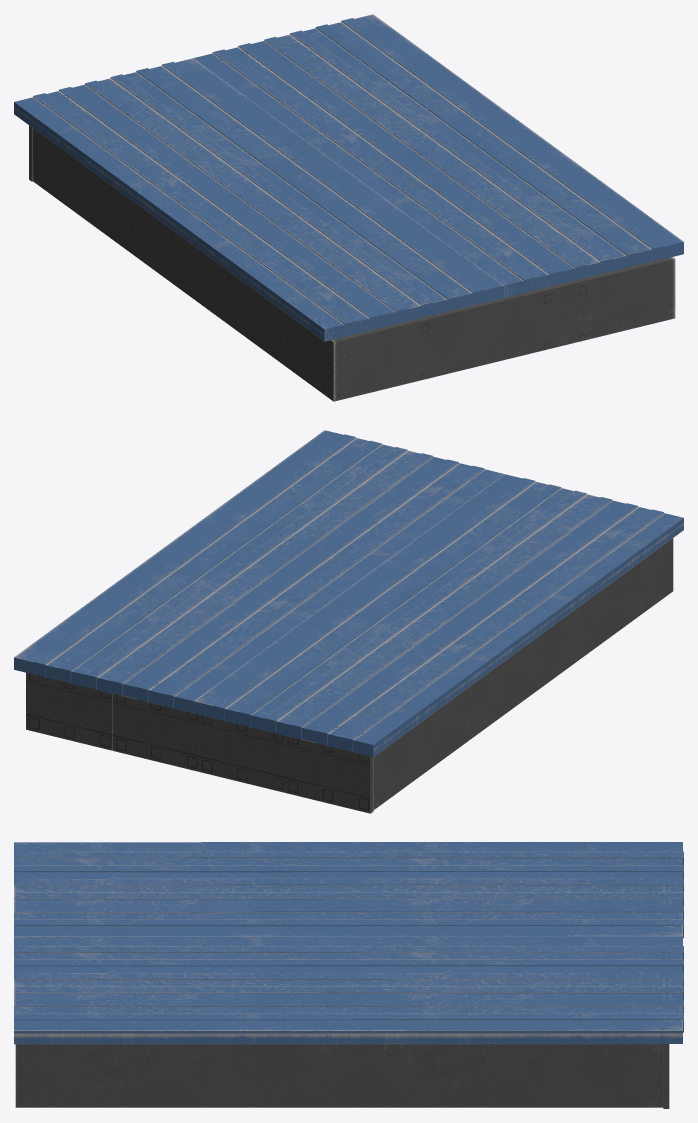
The model's file is 實驗室平台4.fbx.
3 views of the same model, one above another, from view 1: azimuth 30°, elevation 25°; view 2: azimuth 150°, elevation 25°; view 3: azimuth 270°, elevation 25° (orthographic). The views are drawn at different scales.
Visible parts, largest first — view 1: 出去的平台; view 2: 出去的平台; view 3: 出去的平台.
Part boxes in pixels (x1,y1,x2,y2): 出去的平台: [14, 14, 683, 401]; 出去的平台: [14, 430, 683, 813]; 出去的平台: [14, 842, 683, 1108].
Bounding box in the file's own units: 1480 × 300 × 2221.
